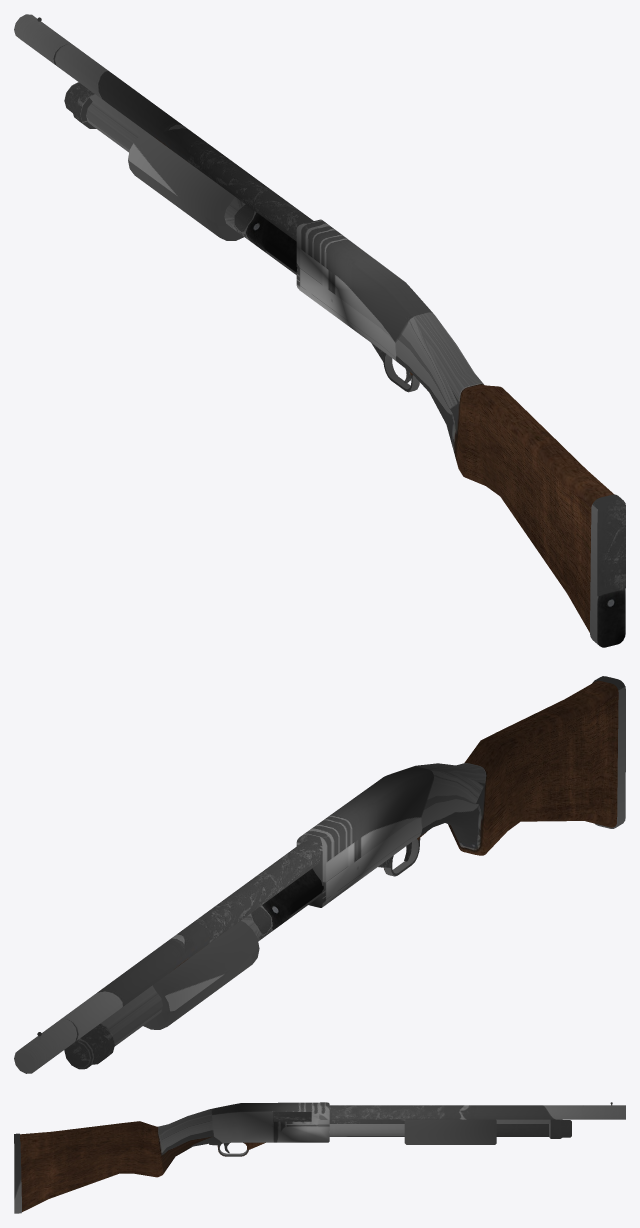
The model's file is shotgun.glb.
The picture shows the model from 3 angles, top to bottom: view 1: azimuth 30°, elevation 25°; view 2: azimuth 150°, elevation 25°; view 3: azimuth 270°, elevation 25°; orthographic projection. The views are drawn at different scales.
Parts seen in each view (by area): view 1: Shotgun, Fore_Stock; view 2: Shotgun, Fore_Stock; view 3: Shotgun, Fore_Stock, Ejection_Port.
Boxes of the visible parts, left/top/right/bottom form: Shotgun: left=14, top=14, right=625, bottom=647; Fore_Stock: left=128, top=132, right=243, bottom=240; Shotgun: left=14, top=676, right=625, bottom=1073; Fore_Stock: left=143, top=921, right=259, bottom=1029; Shotgun: left=14, top=1102, right=625, bottom=1213; Fore_Stock: left=404, top=1119, right=496, bottom=1144; Ejection_Port: left=274, top=1112, right=311, bottom=1121.
Size of the model in its own units: 0.0562 by 0.2408 by 1.22.
1 material, 1 textured.
